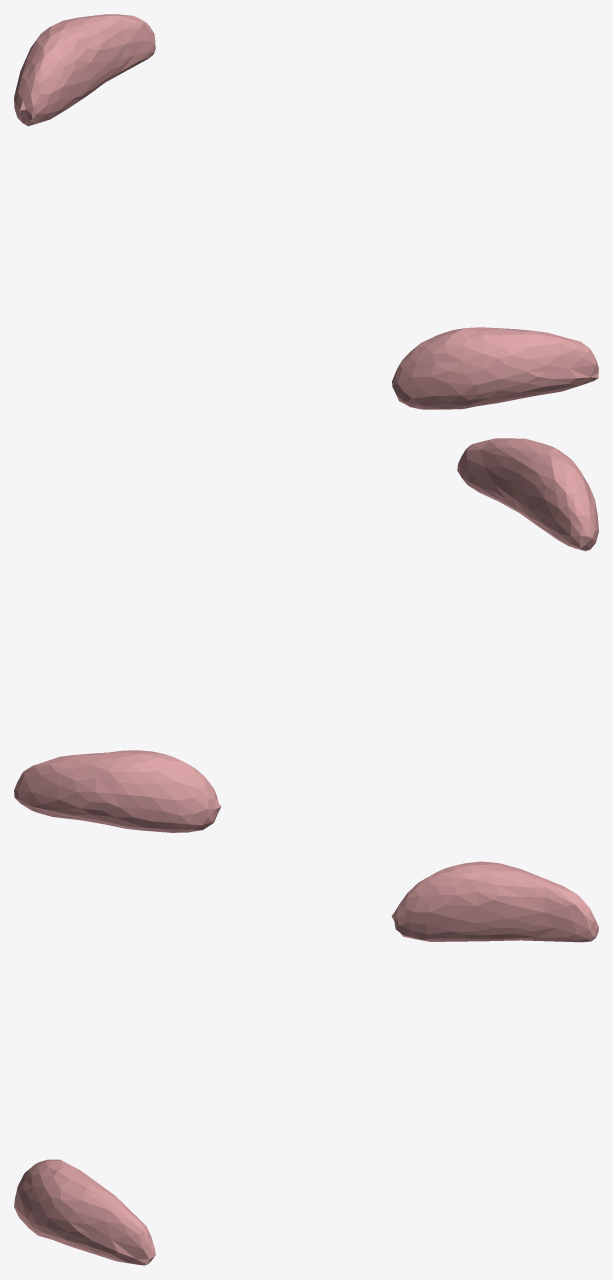
The picture shows the model from 3 angles, top to bottom: view 1: azimuth 30°, elevation 25°; view 2: azimuth 150°, elevation 25°; view 3: azimuth 330°, elevation 25°; orthographic projection.
Visible parts, largest first — view 1: 1079.obj; view 2: 1079.obj; view 3: 1079.obj.
Part boxes in pixels (box(x1,y1,x2,y2)): 1079.obj: box(14, 14, 598, 409); 1079.obj: box(14, 438, 598, 832); 1079.obj: box(14, 861, 598, 1265).
Size of the model in its own units: 1102 by 471 by 5155.
